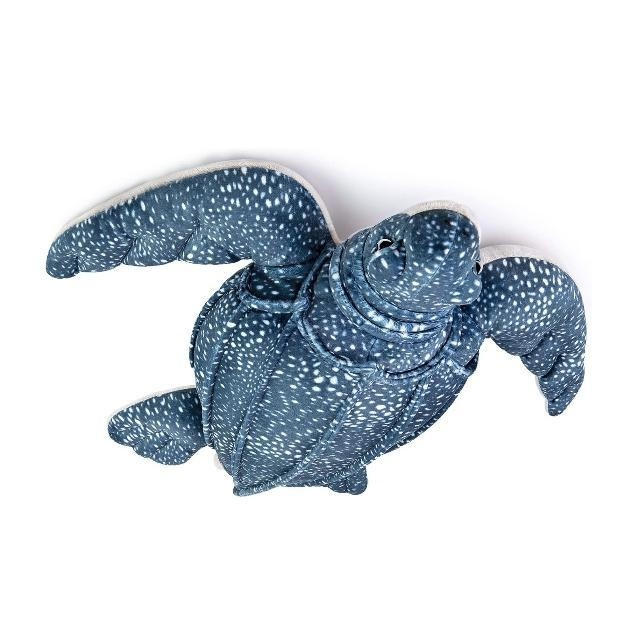turtle: (43, 157, 586, 496)
